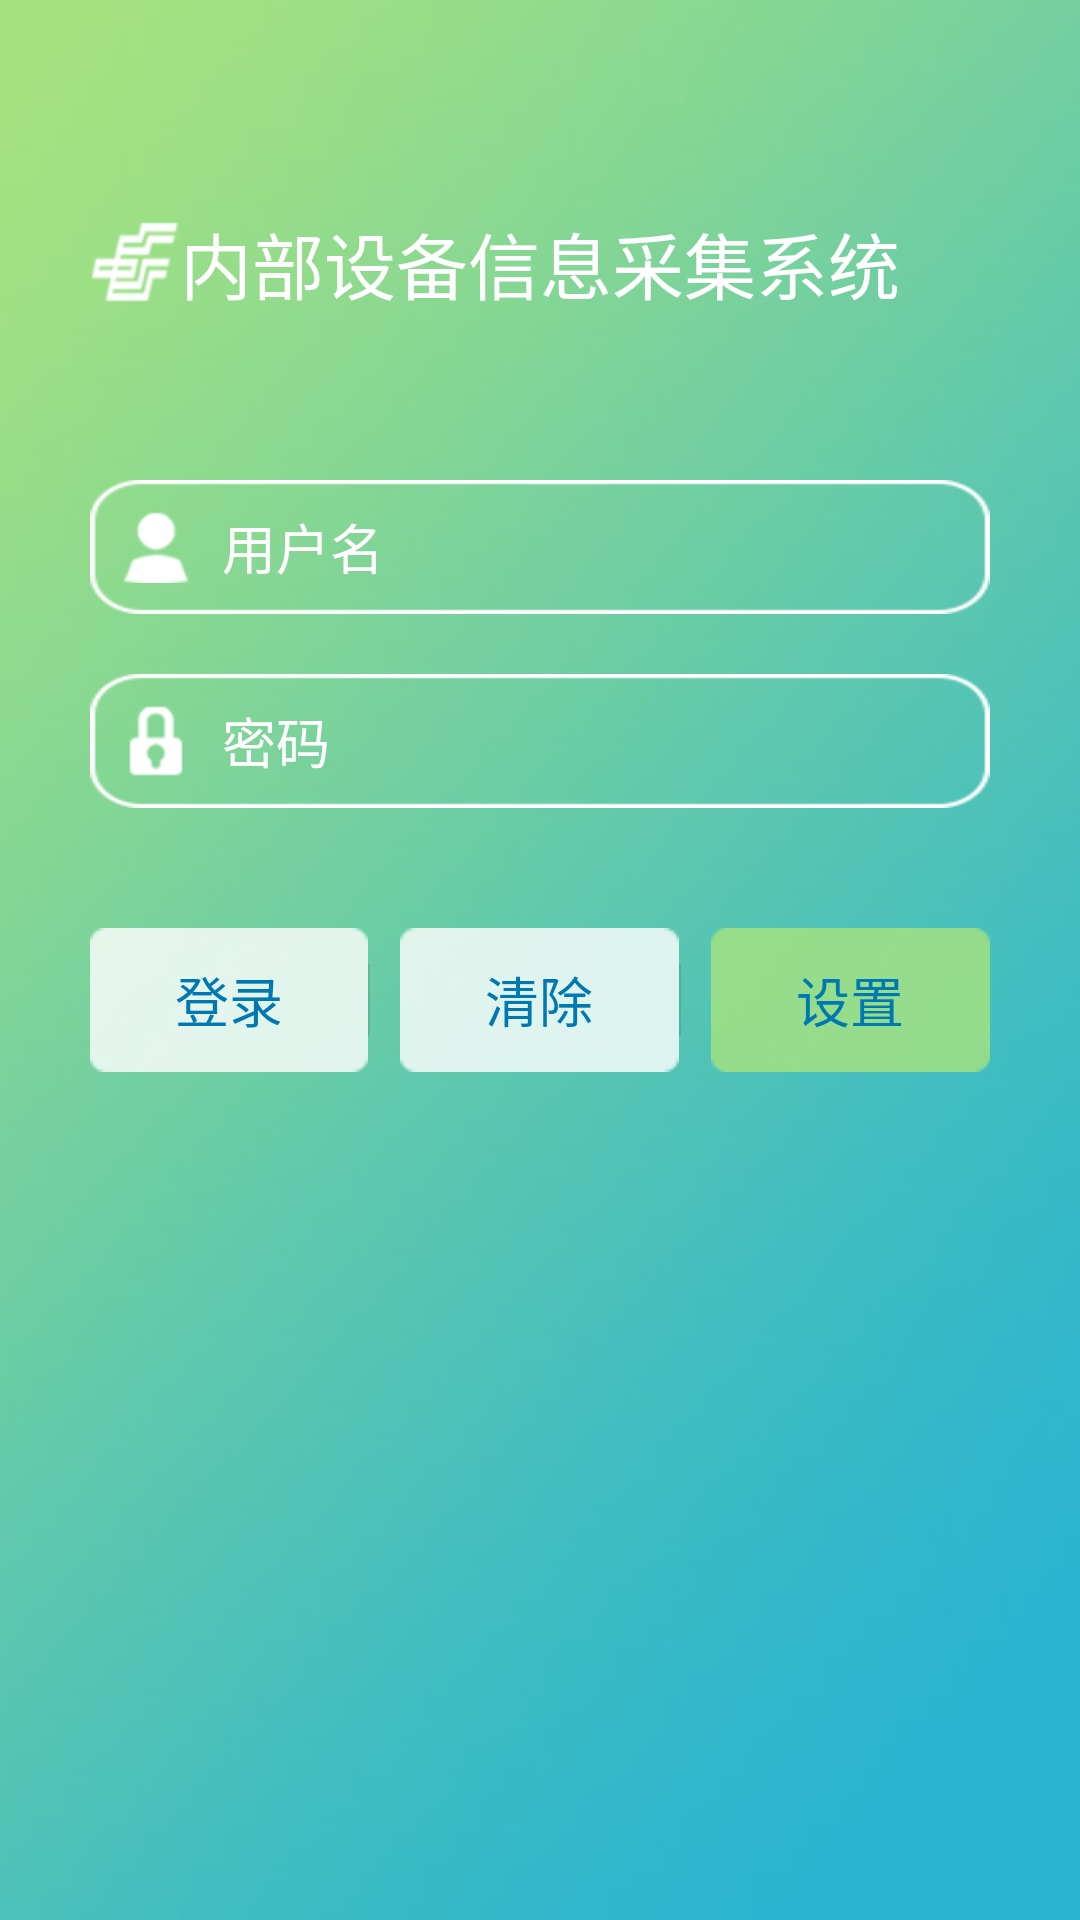

Named icons in this screenshot (1080×1920) and their bounding boxes, (x1,y1,x2,y2):
lgn usr: (124,512,188,583)
